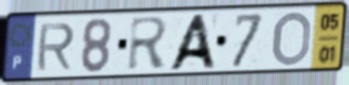7: (231, 11, 265, 69)
8: (81, 17, 114, 75)
A: (164, 12, 219, 72)
O: (270, 9, 314, 68)
R: (125, 15, 170, 73), (34, 21, 77, 73)
